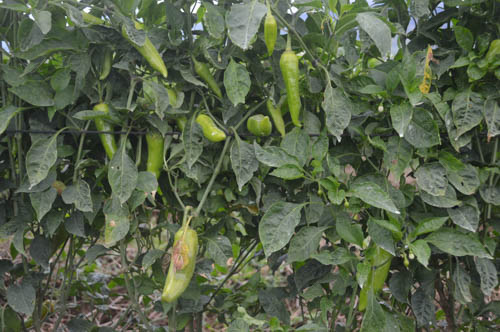ChiliPepper: (353, 239, 393, 319), (161, 227, 200, 306), (277, 50, 307, 127), (124, 26, 168, 72), (91, 103, 120, 160), (138, 129, 165, 178), (191, 61, 219, 93), (193, 116, 227, 141), (257, 20, 279, 50), (243, 115, 270, 136)
